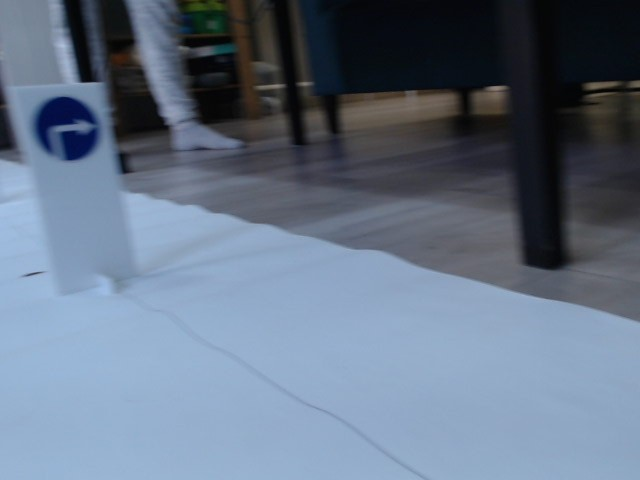Right: (33, 95, 99, 162)
